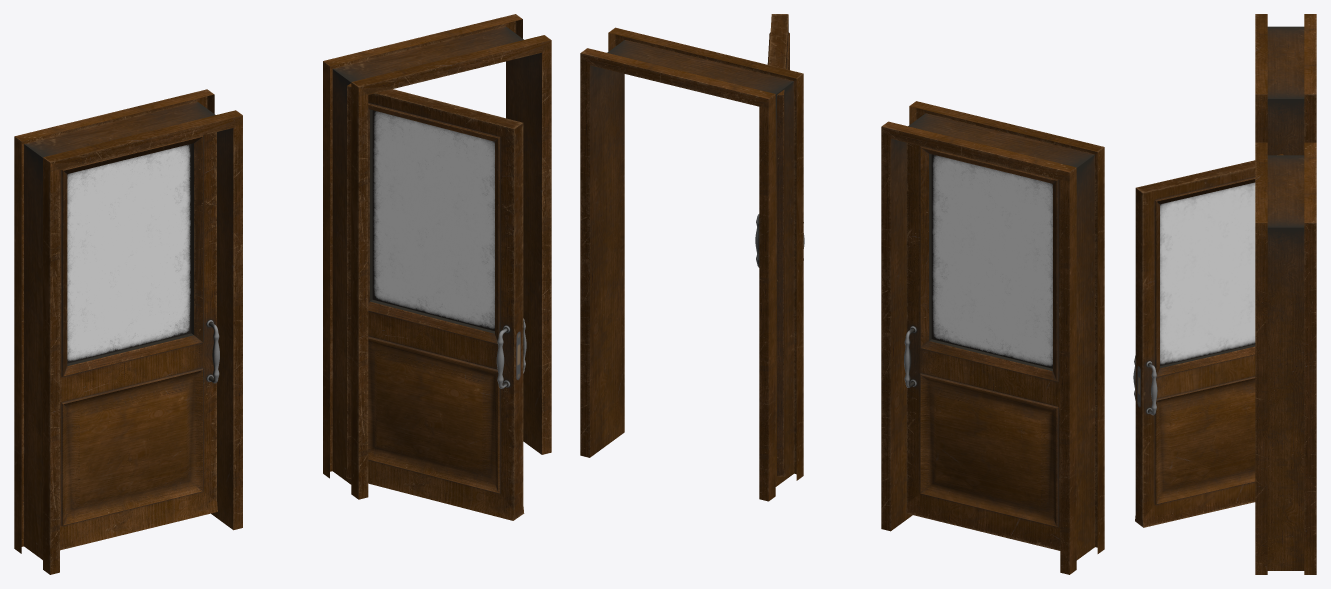
File: puerta.fbx
3 views of the same model, side by side, from view 1: azimuth 30°, elevation 25°; view 2: azimuth 150°, elevation 25°; view 3: azimuth 270°, elevation 25° (orthographic). The views are drawn at different scales.
Visible parts, largest first — view 1: Door00_50m_0_1_2, Main_11m_0_1_2, Main_11m_0_1, Door00_50m_0_1, glass, glass_2; view 2: Main_11m_0_1_2, Main_11m_0_1, Door00_50m_0_1, glass, Door00_50m_0_1_2; view 3: Main_11m_0_1_2, Door00_50m_0_1_2, glass_2, Main_11m_0_1, Sweep_2.
Boxes of the visible parts, x1,y1,x2,y2 form: Door00_50m_0_1_2: (346, 83, 524, 520); Main_11m_0_1_2: (323, 14, 551, 499); Main_11m_0_1: (14, 89, 242, 574); Door00_50m_0_1: (60, 132, 217, 550); glass: (67, 144, 191, 363); glass_2: (372, 110, 494, 330); Main_11m_0_1_2: (580, 27, 803, 501); Main_11m_0_1: (881, 101, 1104, 574); Door00_50m_0_1: (906, 143, 1060, 550); glass: (931, 154, 1052, 368); Door00_50m_0_1_2: (767, 14, 789, 476); Main_11m_0_1_2: (1255, 142, 1316, 574); Door00_50m_0_1_2: (1135, 154, 1283, 527); glass_2: (1160, 182, 1255, 365); Main_11m_0_1: (1255, 14, 1316, 155); Sweep_2: (1133, 355, 1157, 415).
Size of the model in its own units: 2910 by 2287 by 1078.
